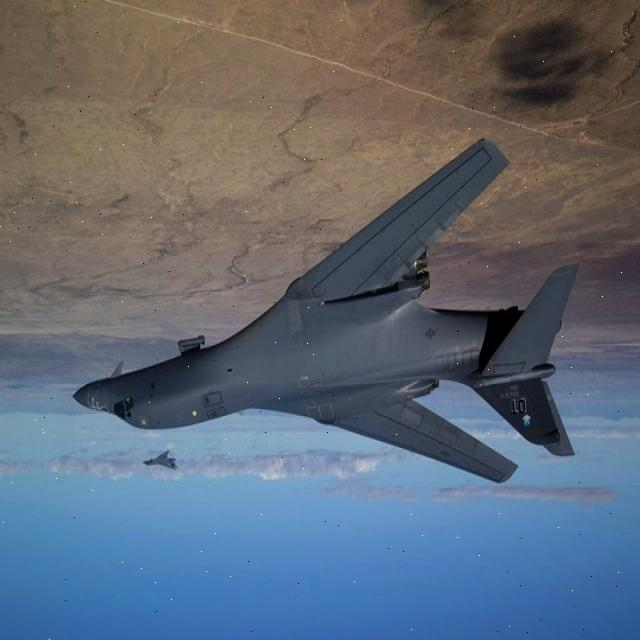B1: (55, 111, 594, 532), (135, 439, 183, 489)
